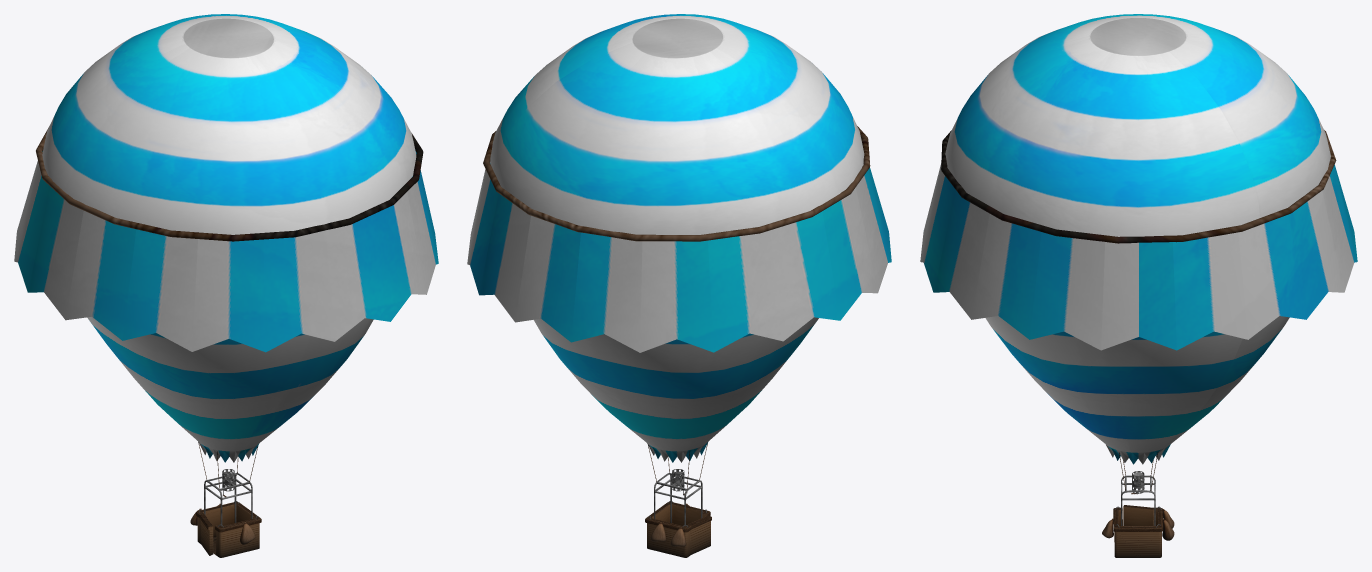
The picture shows the model from 3 angles, left to right: view 1: azimuth 30°, elevation 25°; view 2: azimuth 150°, elevation 25°; view 3: azimuth 270°, elevation 25°; orthographic projection.
Visible parts, largest first — view 1: Object_6, Object_5, Object_3, Object_4; view 2: Object_6, Object_5, Object_3, Object_4; view 3: Object_6, Object_5, Object_3, Object_4.
Part boxes in pixels (<box>): Object_6: <box>14,14,438,462</box>; Object_5: <box>36,126,423,544</box>; Object_3: <box>196,502,261,557</box>; Object_4: <box>199,469,257,527</box>; Object_6: <box>467,14,891,462</box>; Object_5: <box>483,126,870,546</box>; Object_3: <box>645,502,711,557</box>; Object_4: <box>649,469,706,527</box>; Object_6: <box>920,14,1357,464</box>; Object_5: <box>941,130,1336,540</box>; Object_3: <box>1113,505,1163,557</box>; Object_4: <box>1115,471,1161,527</box>.
Bounding box in the file's own units: 1623 × 2151 × 1669.
5 materials, 4 textured.
